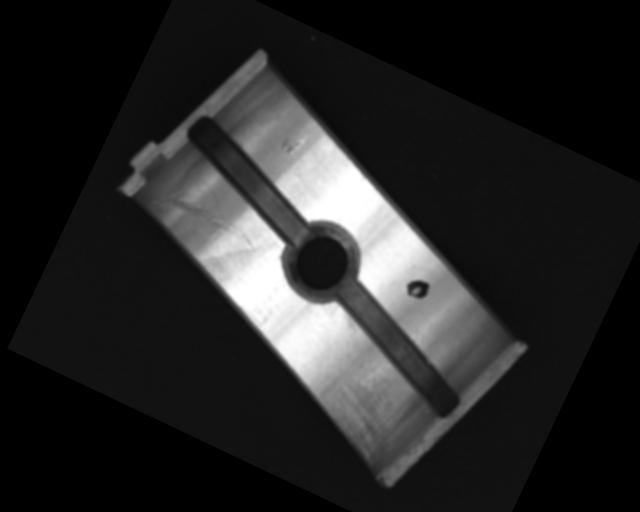blot: (401, 274, 432, 304)
bruise: (277, 123, 311, 160)
gap: (308, 275, 486, 423), (162, 111, 337, 249)
hole: (267, 209, 373, 316)
nick: (146, 166, 275, 257)
scratch: (288, 313, 435, 474)
